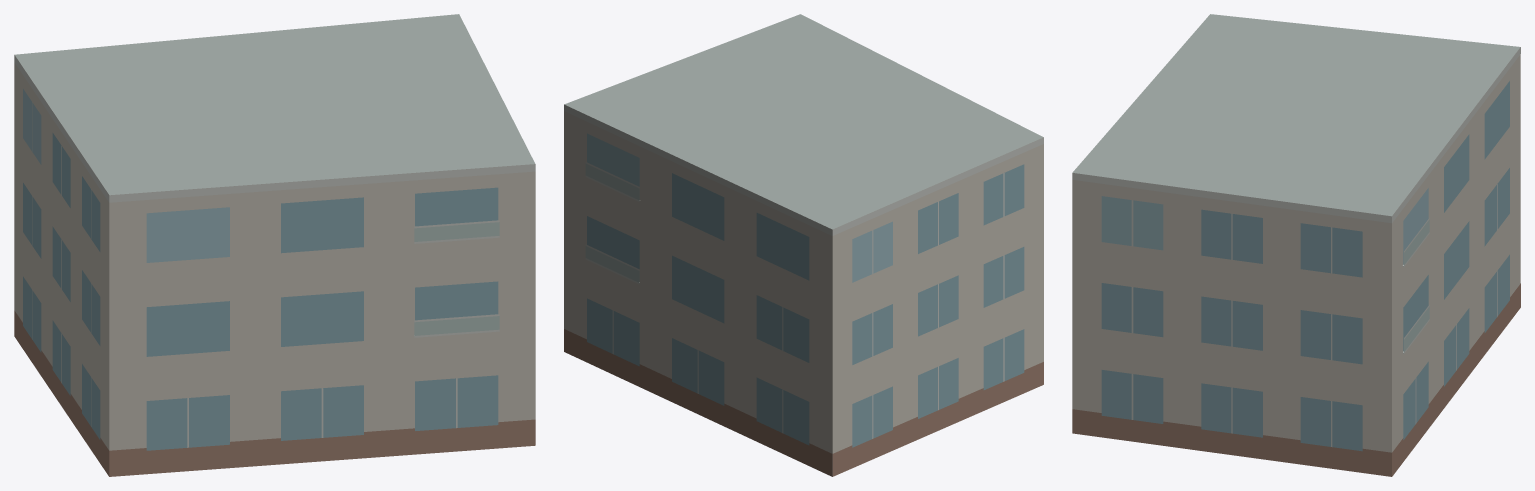
File: survey-upis-33010668.glb
3 renders of one model, left to right at view 1: azimuth 30°, elevation 25°; view 2: azimuth 150°, elevation 25°; view 3: azimuth 270°, elevation 25°, orthographic. The views are drawn at different scales.
Parts seen in each view (by area): view 1: survey-upis-33010668.tmp; view 2: survey-upis-33010668.tmp; view 3: survey-upis-33010668.tmp.
Part boxes in pixels (bbox=[...]): survey-upis-33010668.tmp: bbox=[14, 14, 535, 476]; survey-upis-33010668.tmp: bbox=[564, 14, 1043, 476]; survey-upis-33010668.tmp: bbox=[1072, 14, 1520, 476].
Size of the model in its own units: 15.24 by 9.15 by 14.28.
